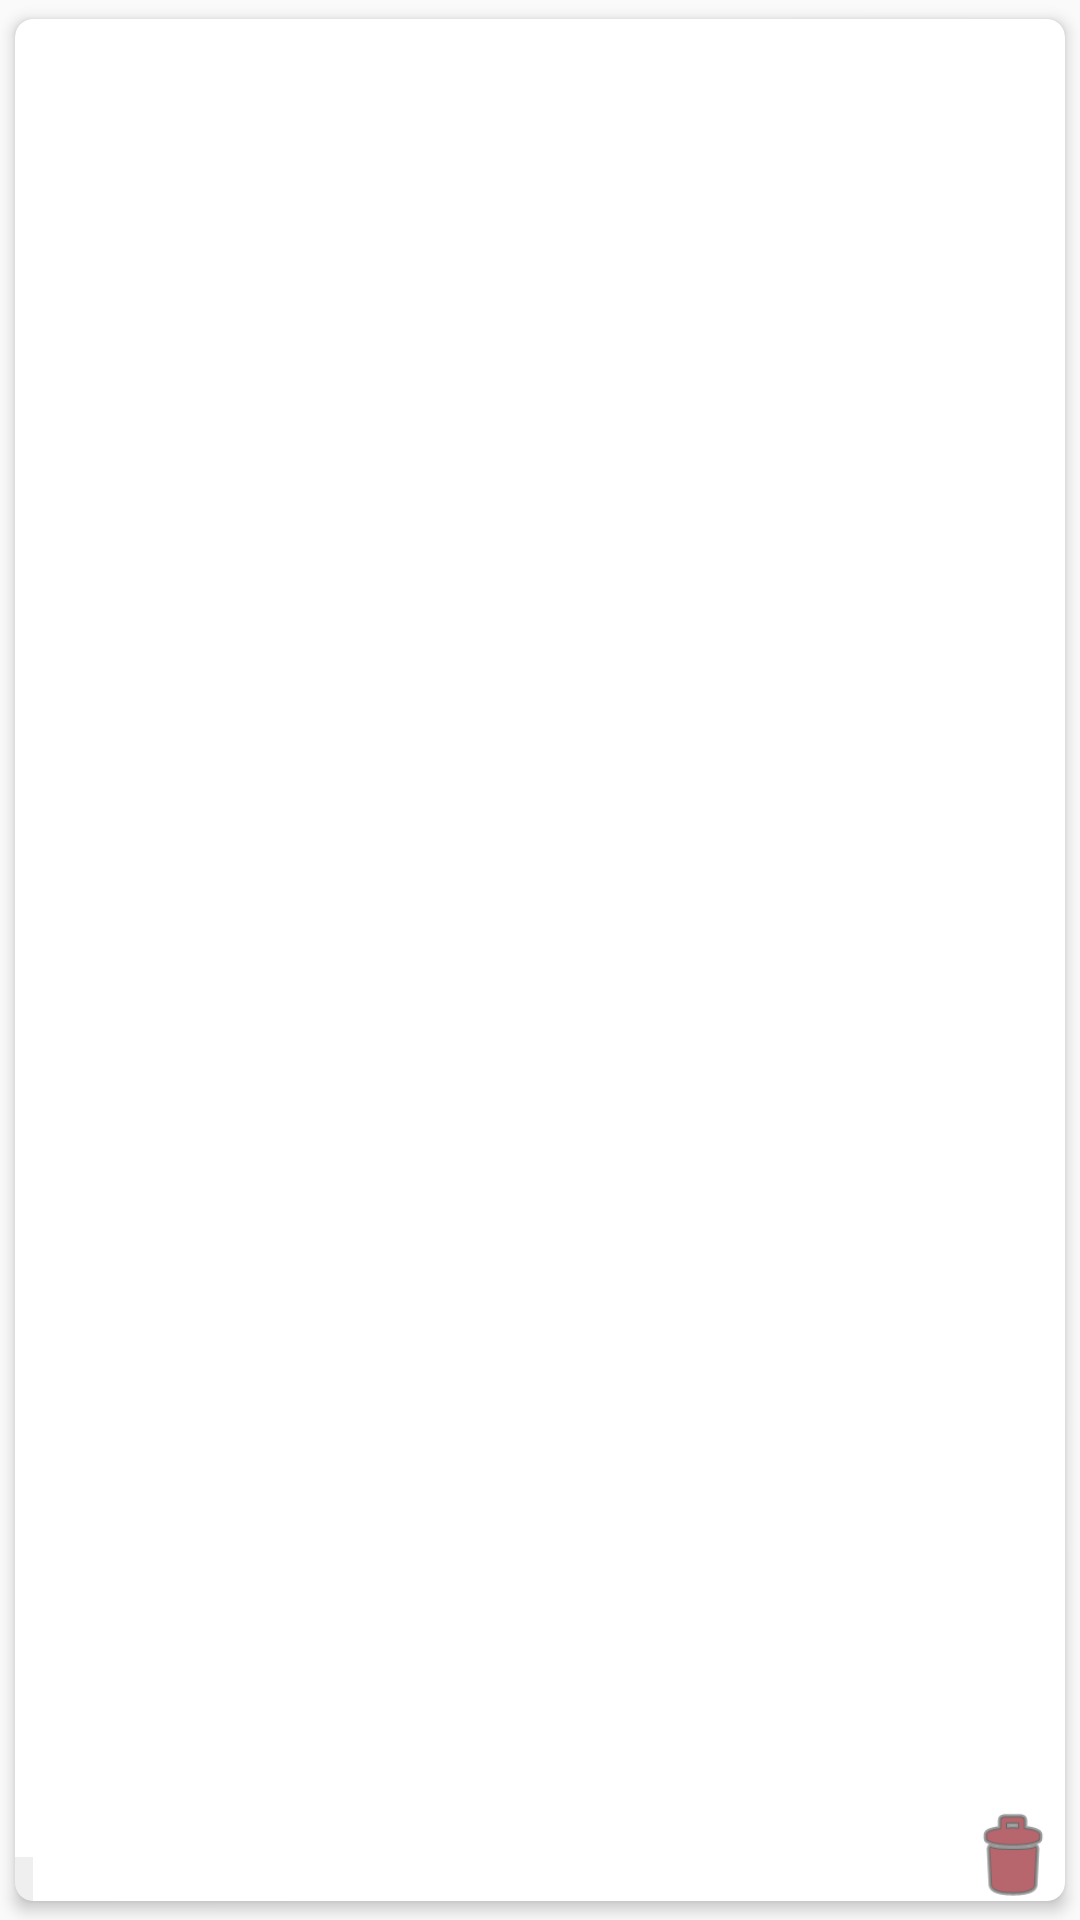

Where icons sit on this 1080px x 1920px app screen, as bbox=(x1, y1, x2, y2):
delete: bbox=(983, 1814, 1043, 1896)
